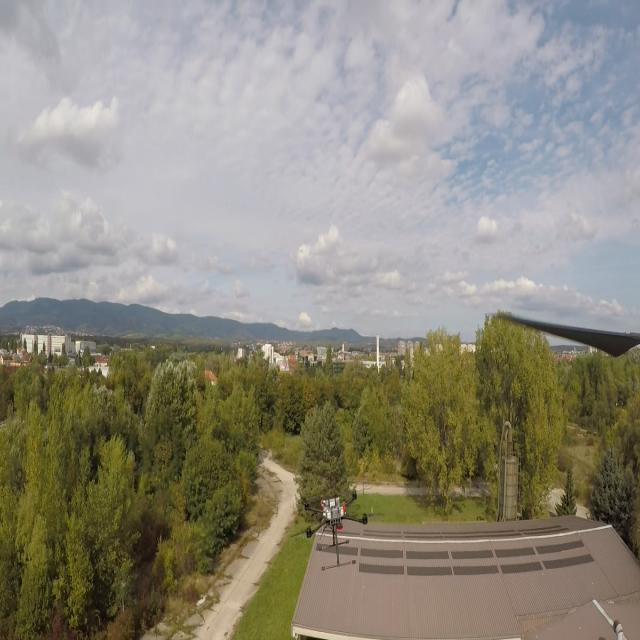UAV: (289, 482, 386, 572)
